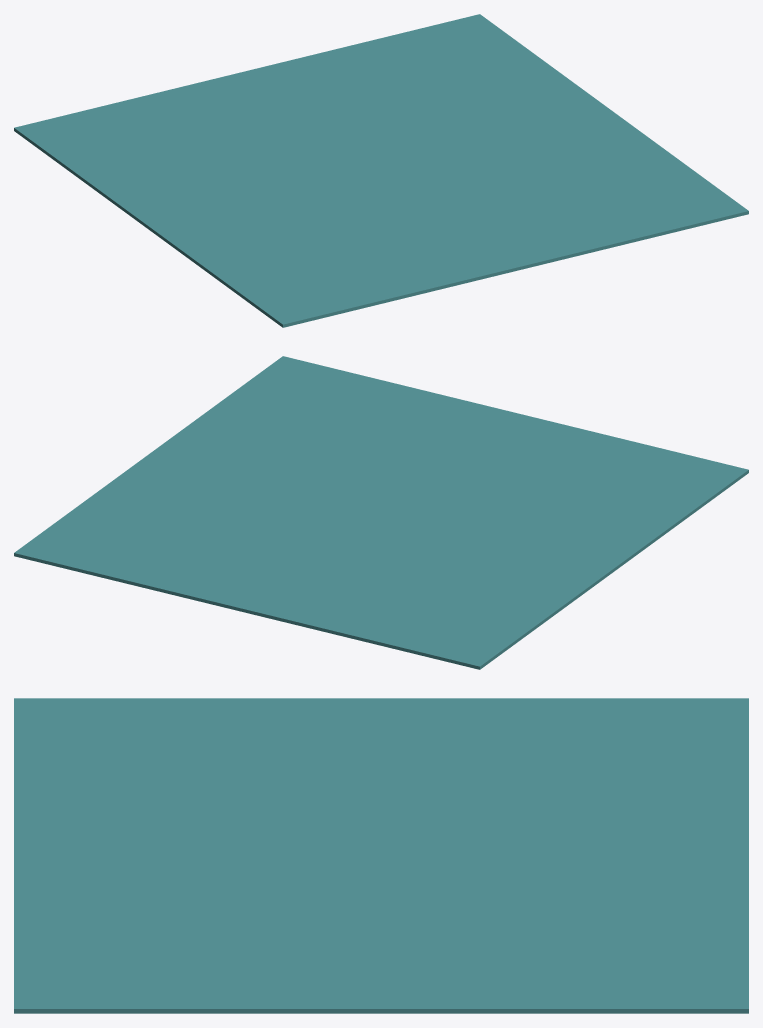
Rendered from Tek XL Cellar Door.glb.
3 views of the same model, one above another, from view 1: azimuth 30°, elevation 25°; view 2: azimuth 150°, elevation 25°; view 3: azimuth 270°, elevation 25° (orthographic). The views are drawn at different scales.
Visible parts, largest first — view 1: SM_Tek_DoorCeilingXL; view 2: SM_Tek_DoorCeilingXL; view 3: SM_Tek_DoorCeilingXL.
Boxes of the visible parts, bbox=[...] form: SM_Tek_DoorCeilingXL: bbox=[14, 14, 748, 327]; SM_Tek_DoorCeilingXL: bbox=[14, 356, 748, 669]; SM_Tek_DoorCeilingXL: bbox=[14, 698, 748, 1013].
Bounding box in the file's own units: 15 × 0.1 × 15.
